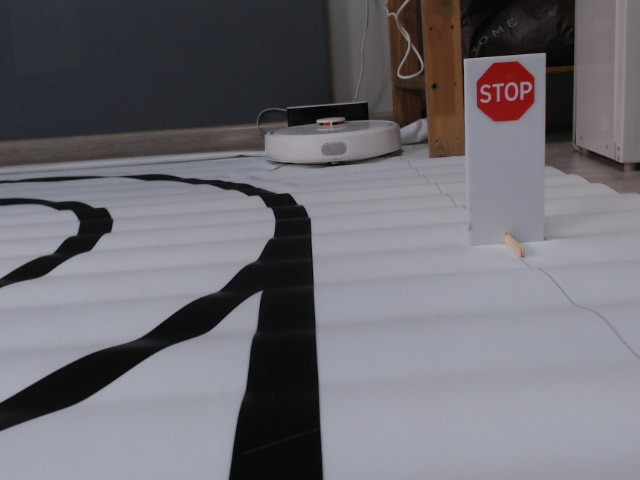Stop: (476, 59, 536, 123)
